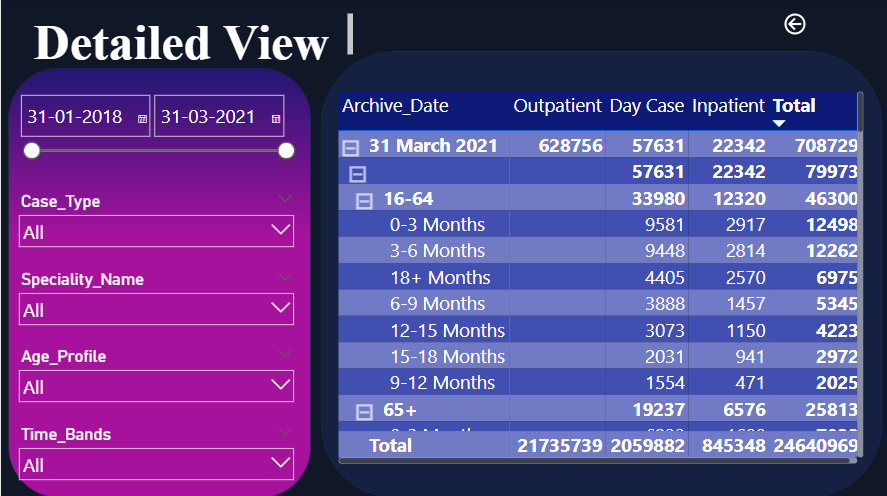

The dashboard page shown, as its layout file describes it:
{"tool":"powerbi","page":{"name":"Detail","canvas":[1280,720],"ordinal":1},"visuals":[{"type":"slicer","fields":{"Values":["All_Data.Archive_Date"]},"box":[16,128,416,144],"z":0},{"type":"slicer","fields":{"Values":["All_Data.Case_Type"]},"box":[16,272,416,96],"z":1000},{"type":"slicer","fields":{"Values":["All_Data.Speciality_Name"]},"box":[16,384,416,96],"z":2000},{"type":"textbox","box":[16,16,496,80],"z":3000},{"type":"slicer","fields":{"Values":["All_Data.Age_Profile"]},"box":[16,496,416,96],"z":4000},{"type":"slicer","fields":{"Values":["All_Data.Time_Bands"]},"box":[16,608,416,96],"z":5000},{"type":"pivotTable","fields":{"Rows":["All_Data.Archive_Date","All_Data.Speciality_Name","All_Data.Age_Profile","All_Data.Time_Bands"],"Columns":["All_Data.Case_Type"],"Values":["Sum(All_Data.Total)"]},"box":[481,128.2,766.1,545.8],"z":6000},{"type":"actionButton","box":[1123.2,15.8,61.9,40.3],"z":7000}]}

Visuals, with their boxes in screenshot pixels (x1, y1, x2, y2), scaled from the page's 1280x720 canvas onto the 887x496 screenshot:
slicer - All_Data.Archive_Date: bbox(11, 88, 299, 187)
slicer - All_Data.Case_Type: bbox(11, 187, 299, 254)
slicer - All_Data.Speciality_Name: bbox(11, 265, 299, 331)
textbox: bbox(11, 11, 355, 66)
slicer - All_Data.Age_Profile: bbox(11, 342, 299, 408)
slicer - All_Data.Time_Bands: bbox(11, 419, 299, 485)
pivotTable - All_Data.Archive_Date x All_Data.Speciality_Name: bbox(333, 88, 864, 464)
actionButton: bbox(778, 11, 821, 39)
